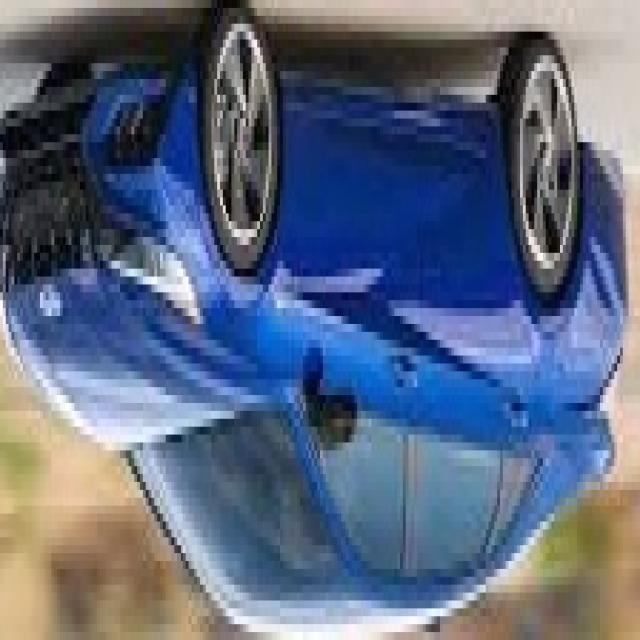blue: (0, 0, 629, 626)
